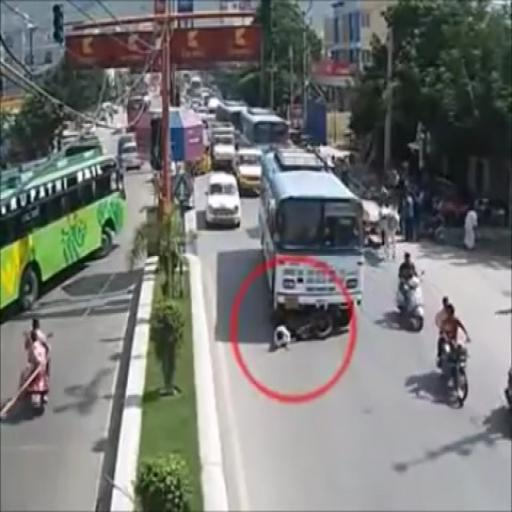小汽车: (0, 149, 126, 310), (208, 173, 242, 228)
小汽车撞自行车: (262, 148, 366, 349)
自行车: (438, 298, 470, 396), (20, 315, 51, 414), (397, 250, 423, 334)
